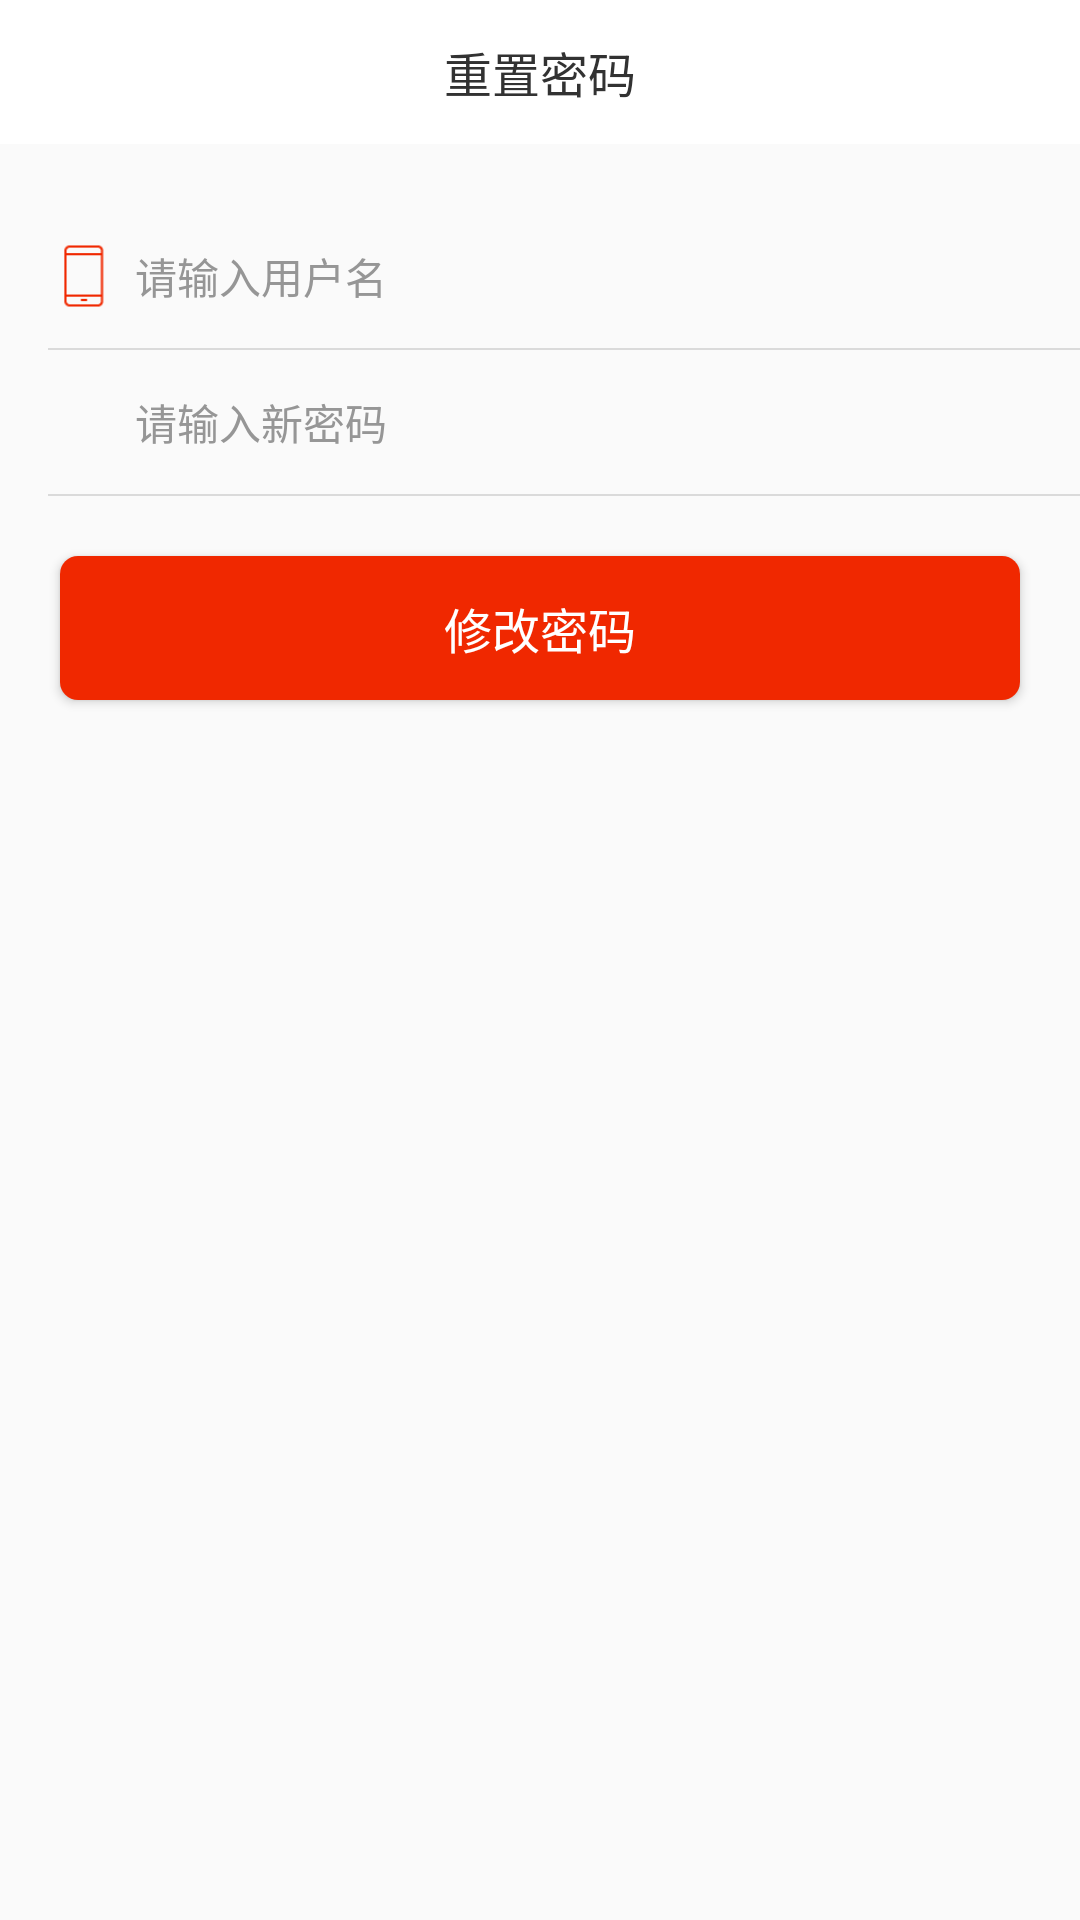

Icon bounding boxes for this 1080*1920 phone screenshot, format bbox(x1, y1, x2, y2):
phone: bbox(64, 245, 104, 307)
